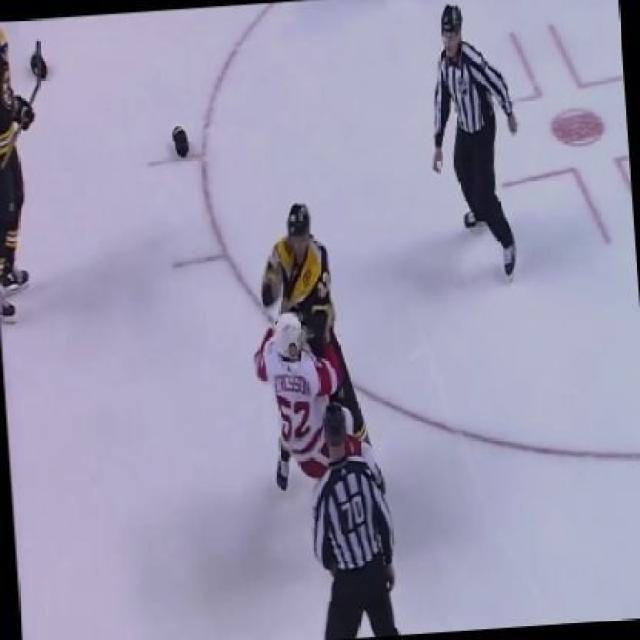fight: (240, 187, 415, 483)
non-fight: (415, 0, 534, 286), (307, 400, 402, 640)
